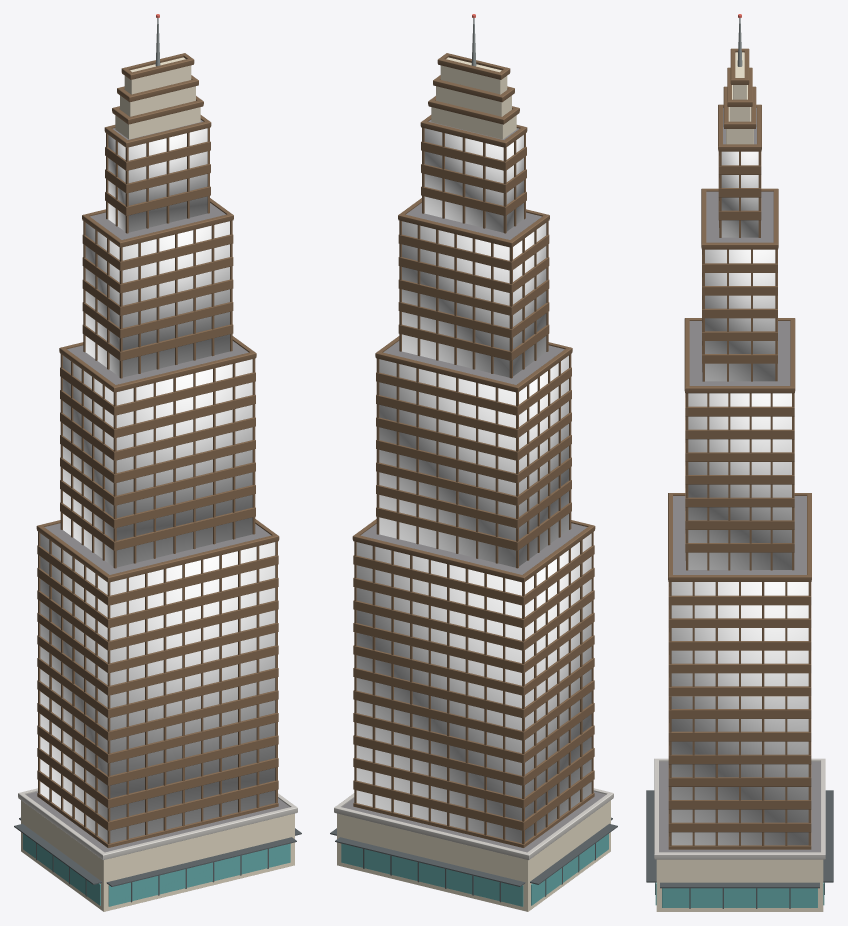
File: tower_stepped_stone.glb
3 views of the same model, side by side, from view 1: azimuth 30°, elevation 25°; view 2: azimuth 150°, elevation 25°; view 3: azimuth 270°, elevation 25° (orthographic).
Visible parts, largest first — view 1: tower trim, curtain, mullions, tower props; view 2: tower trim, curtain, mullions, tower props; view 3: tower trim, curtain, mullions, tower props.
Boxes of the visible parts, x1=… form: tower trim: x1=18, y1=53, x2=297, y2=911; curtain: x1=40, y1=128, x2=275, y2=843; mullions: x1=36, y1=127, x2=277, y2=902; tower props: x1=14, y1=14, x2=301, y2=906; tower trim: x1=334, y1=53, x2=613, y2=911; curtain: x1=356, y1=128, x2=591, y2=843; mullions: x1=354, y1=127, x2=595, y2=902; tower props: x1=330, y1=14, x2=617, y2=906; tower trim: x1=654, y1=48, x2=825, y2=911; curtain: x1=671, y1=151, x2=808, y2=845; mullions: x1=655, y1=151, x2=824, y2=908; tower props: x1=646, y1=14, x2=833, y2=907.
Bounding box in the file's own units: 34.9 × 135 × 26.9.
